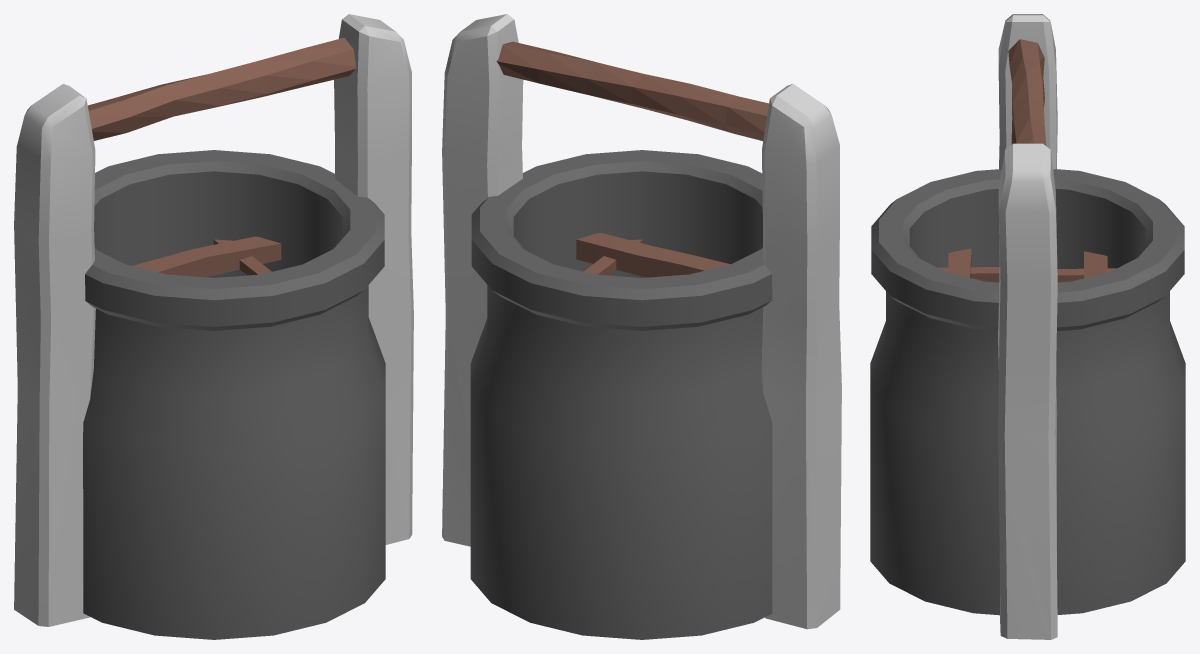
The model's file is well.FBX.
The picture shows the model from 3 angles, left to right: view 1: azimuth 30°, elevation 25°; view 2: azimuth 150°, elevation 25°; view 3: azimuth 270°, elevation 25°; orthographic projection. The views are drawn at different scales.
Visible parts, largest first — view 1: well_LOD0; view 2: well_LOD0; view 3: well_LOD0.
Boxes of the visible parts, <box> form: well_LOD0: <box>14,14,413,639</box>; well_LOD0: <box>442,14,841,639</box>; well_LOD0: <box>870,14,1185,639</box>.
Size of what is drawn, in the model's own units: 163 by 215 by 129.
